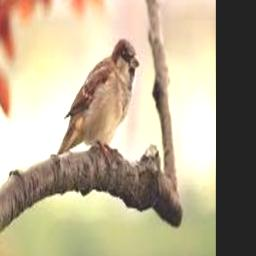Sparrow: (56, 39, 140, 156)
